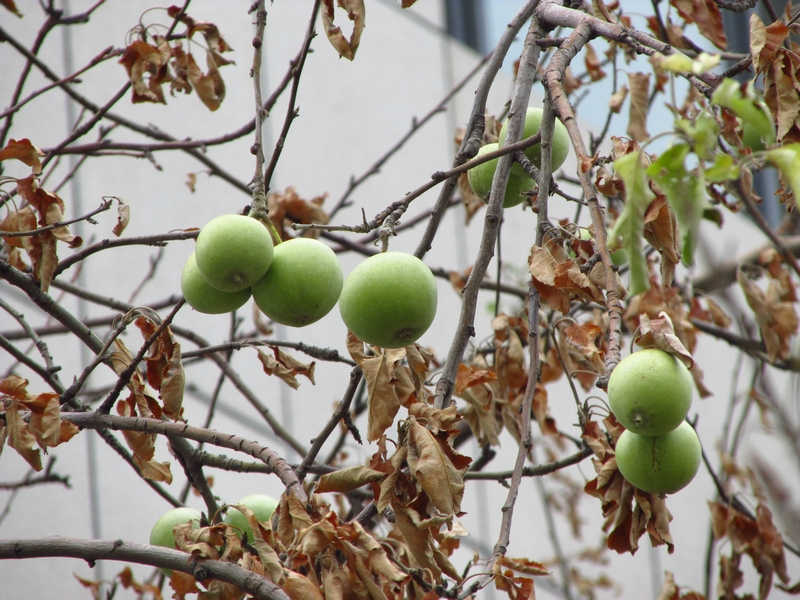apple: (339, 252, 437, 350), (613, 417, 705, 505), (252, 238, 341, 327), (606, 349, 693, 438), (192, 214, 274, 287), (181, 248, 251, 317), (466, 139, 534, 210), (497, 107, 567, 173), (222, 495, 289, 563), (148, 507, 205, 563)
